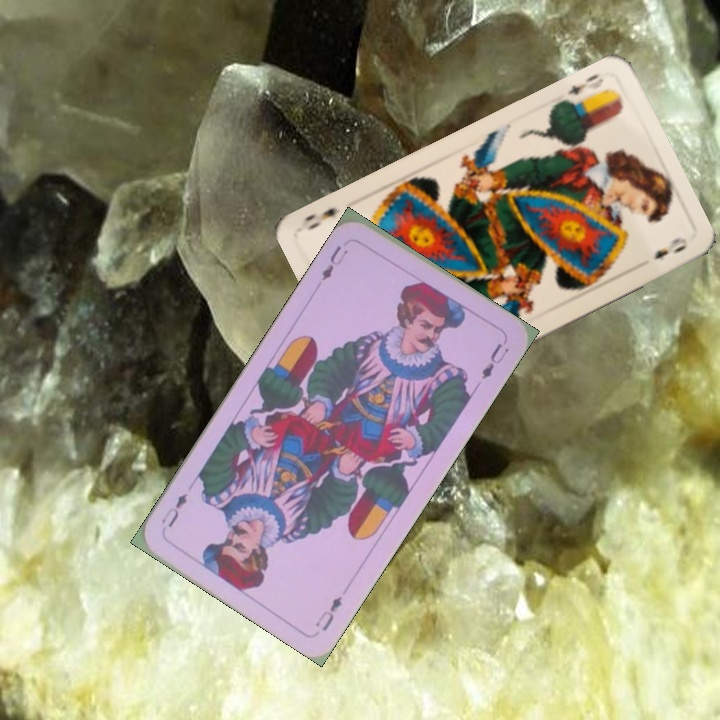EO: (557, 69, 606, 108)
EU: (310, 592, 345, 634), (317, 241, 351, 284)
